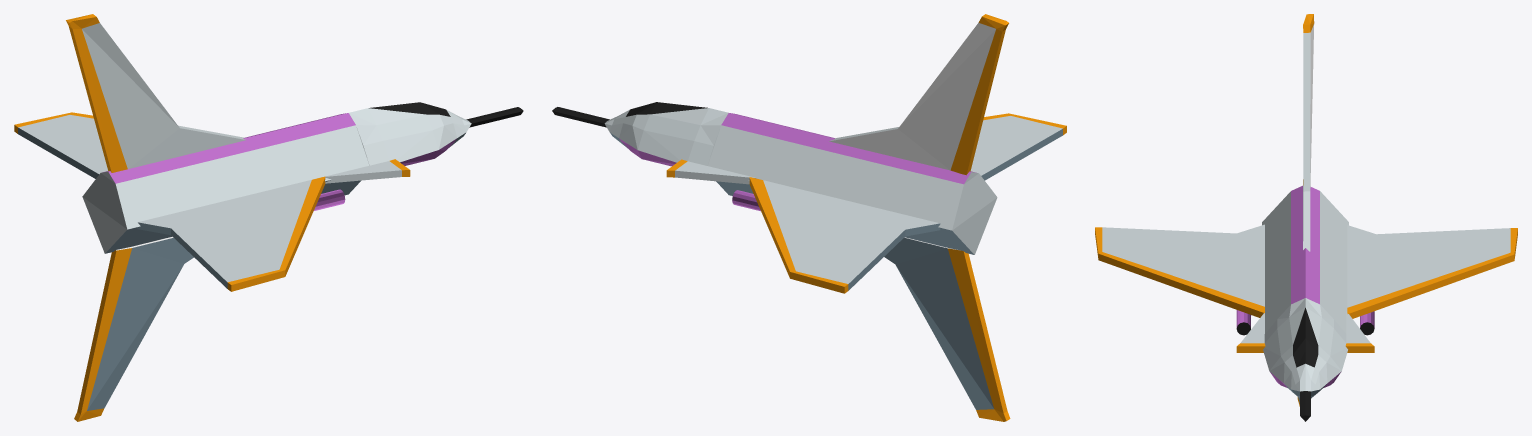
The model's file is scene_Jz1ktbja5K.glb.
3 renders of one model, left to right at view 1: azimuth 30°, elevation 25°; view 2: azimuth 150°, elevation 25°; view 3: azimuth 270°, elevation 25°, orthographic. The views are drawn at different scales.
Parts seen in each view (by area): view 1: Node; view 2: Node; view 3: Node.
Boxes of the visible parts, x1=… form: Node: x1=14, y1=14, x2=523, y2=421; Node: x1=552, y1=14, x2=1066, y2=421; Node: x1=1095, y1=14, x2=1517, y2=421.
Bounding box in the file's own units: 1.39 × 1.17 × 1.17.
